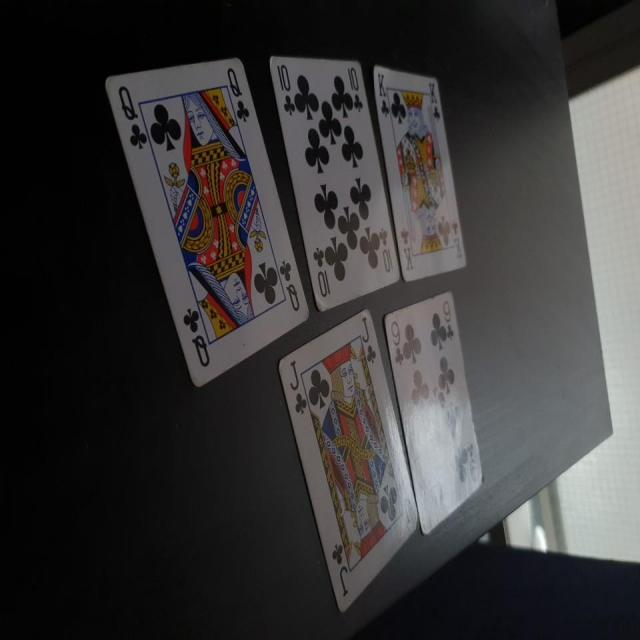10 Trefoils: (268, 50, 402, 308)
9 Trefoils: (382, 291, 483, 537)
J Trefoils: (274, 305, 419, 614)
K Trefoils: (371, 62, 466, 282)
Q Trefoils: (102, 55, 310, 392)
